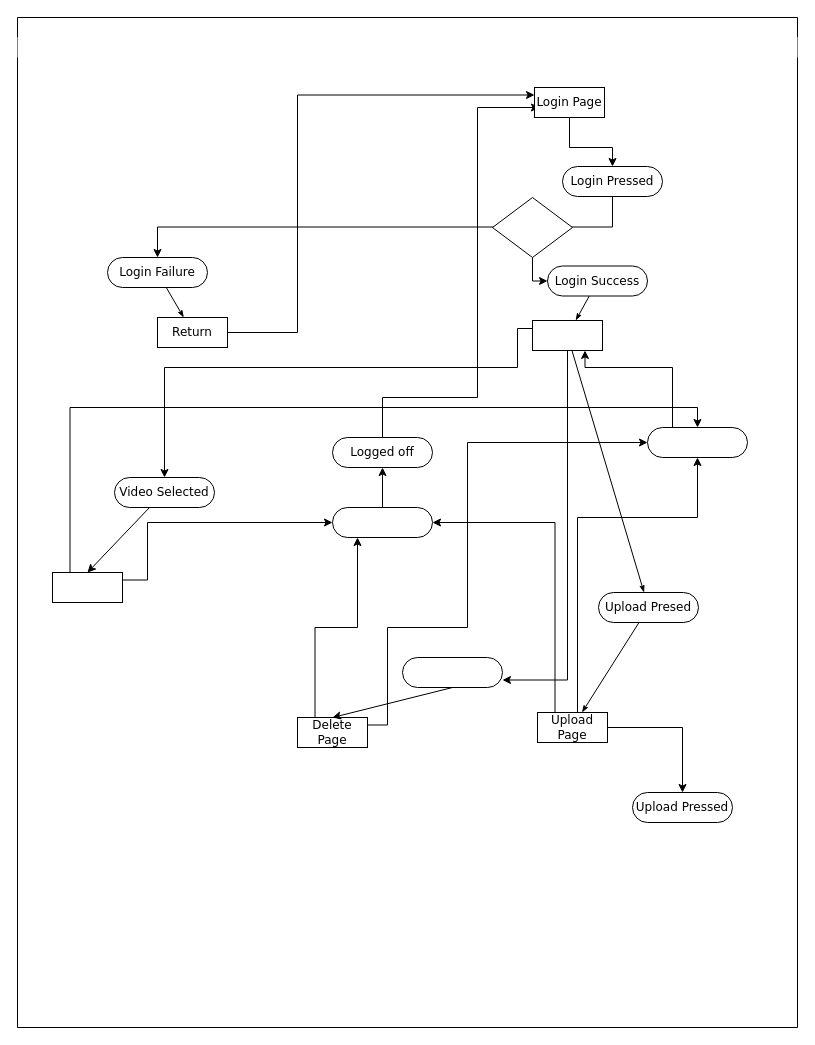
The diagram is 815 pixels wide and 1045 high, and some of its shapes have lost their labels. Each missing label, with the box of its shape:
Back to browse button pressed: (646, 426, 748, 458)
Browse Page: (532, 320, 602, 350)
Credentials Correct?: (492, 196, 572, 258)
Delete Pressed: (402, 656, 502, 688)
Log off button pressed: (332, 506, 432, 538)
Video Page: (52, 572, 122, 602)
